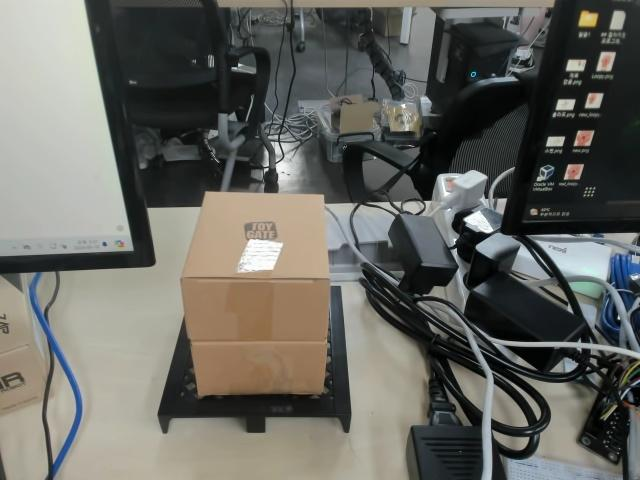box: (155, 189, 352, 436)
